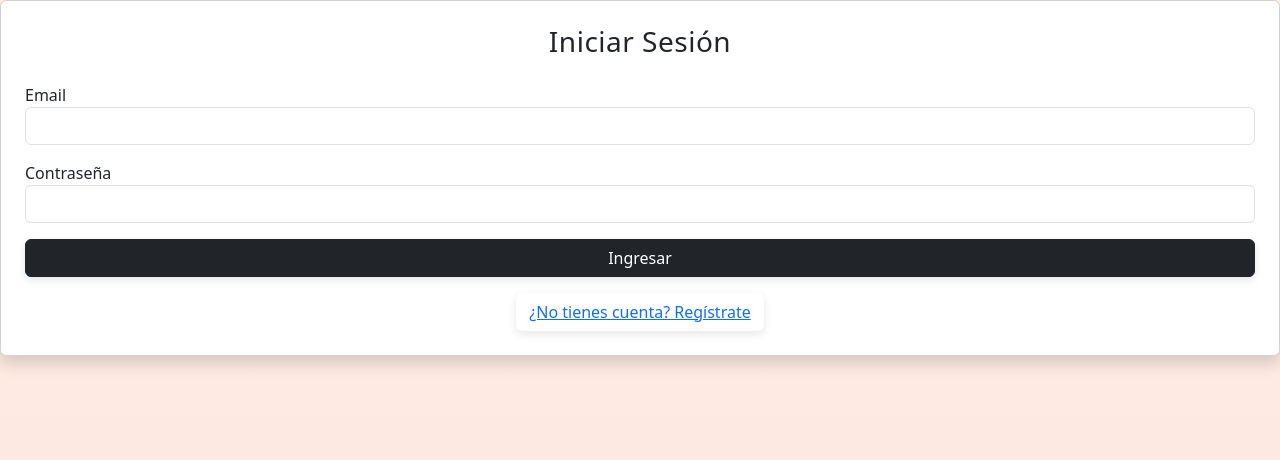
valida campos obligatorios y muestra error
This screenshot has width=1280, height=460.
// submit vacío
Click the button "Ingresar". click: (640, 258)
box: x1=25 y1=239 x2=1255 y2=277
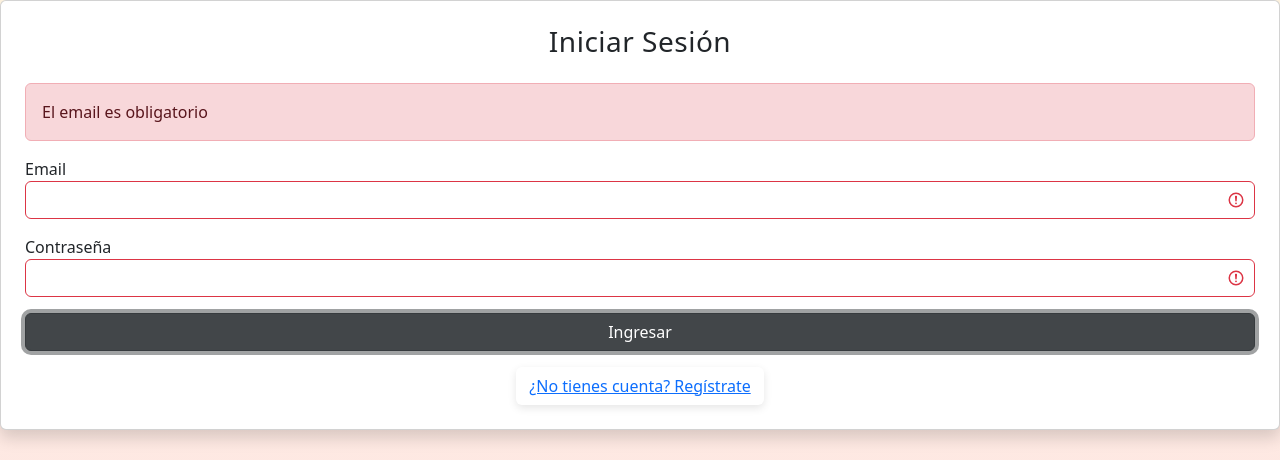
Check: the text "El email es obligatorio" is shown, box x1=25 y1=83 x2=1255 y2=141
